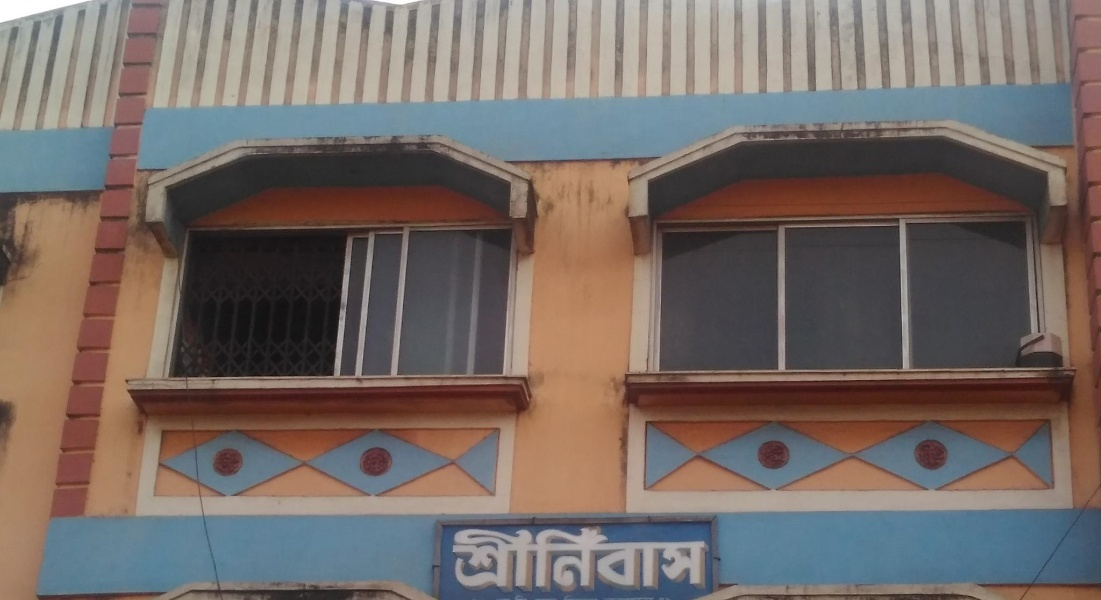text: (465, 525, 480, 592), (481, 525, 496, 592), (497, 525, 512, 592), (513, 525, 528, 592), (529, 525, 544, 592), (545, 525, 560, 592), (561, 525, 576, 592), (577, 525, 592, 592), (593, 525, 608, 592), (609, 525, 624, 592), (625, 525, 640, 592), (641, 525, 656, 592), (657, 525, 672, 592), (673, 525, 688, 592), (689, 525, 704, 592), (454, 525, 464, 592), (705, 525, 710, 592)
